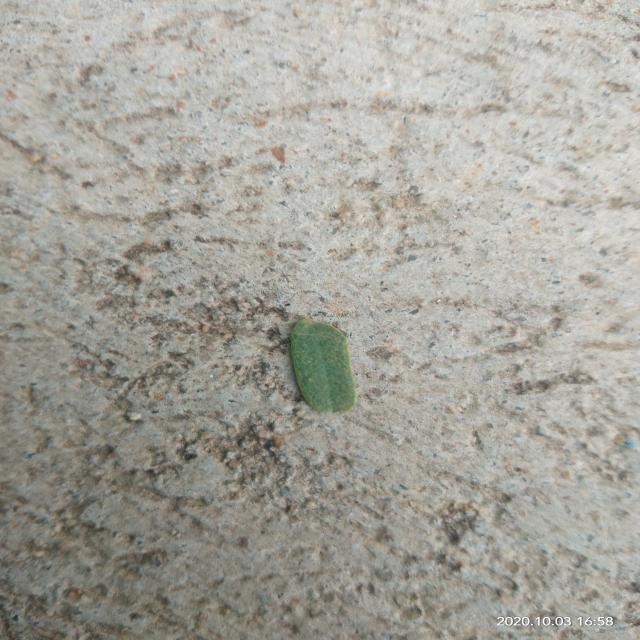tamarind: (292, 318, 357, 412)
